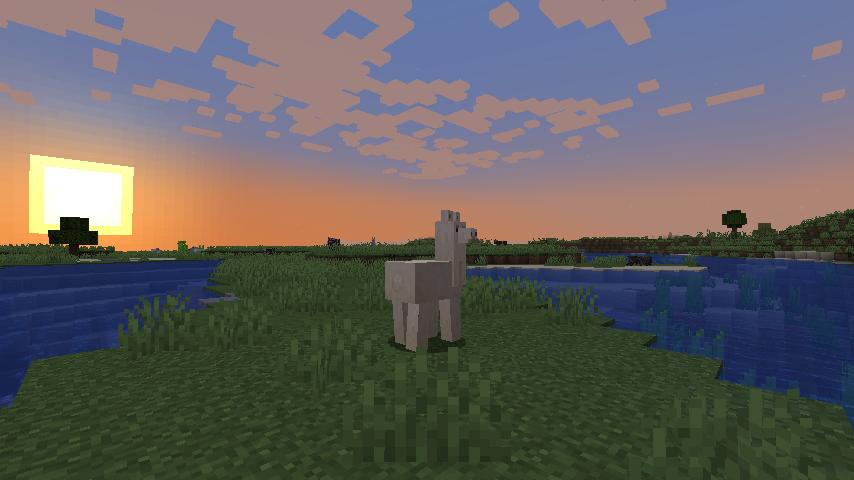llama: (381, 208, 479, 349)
